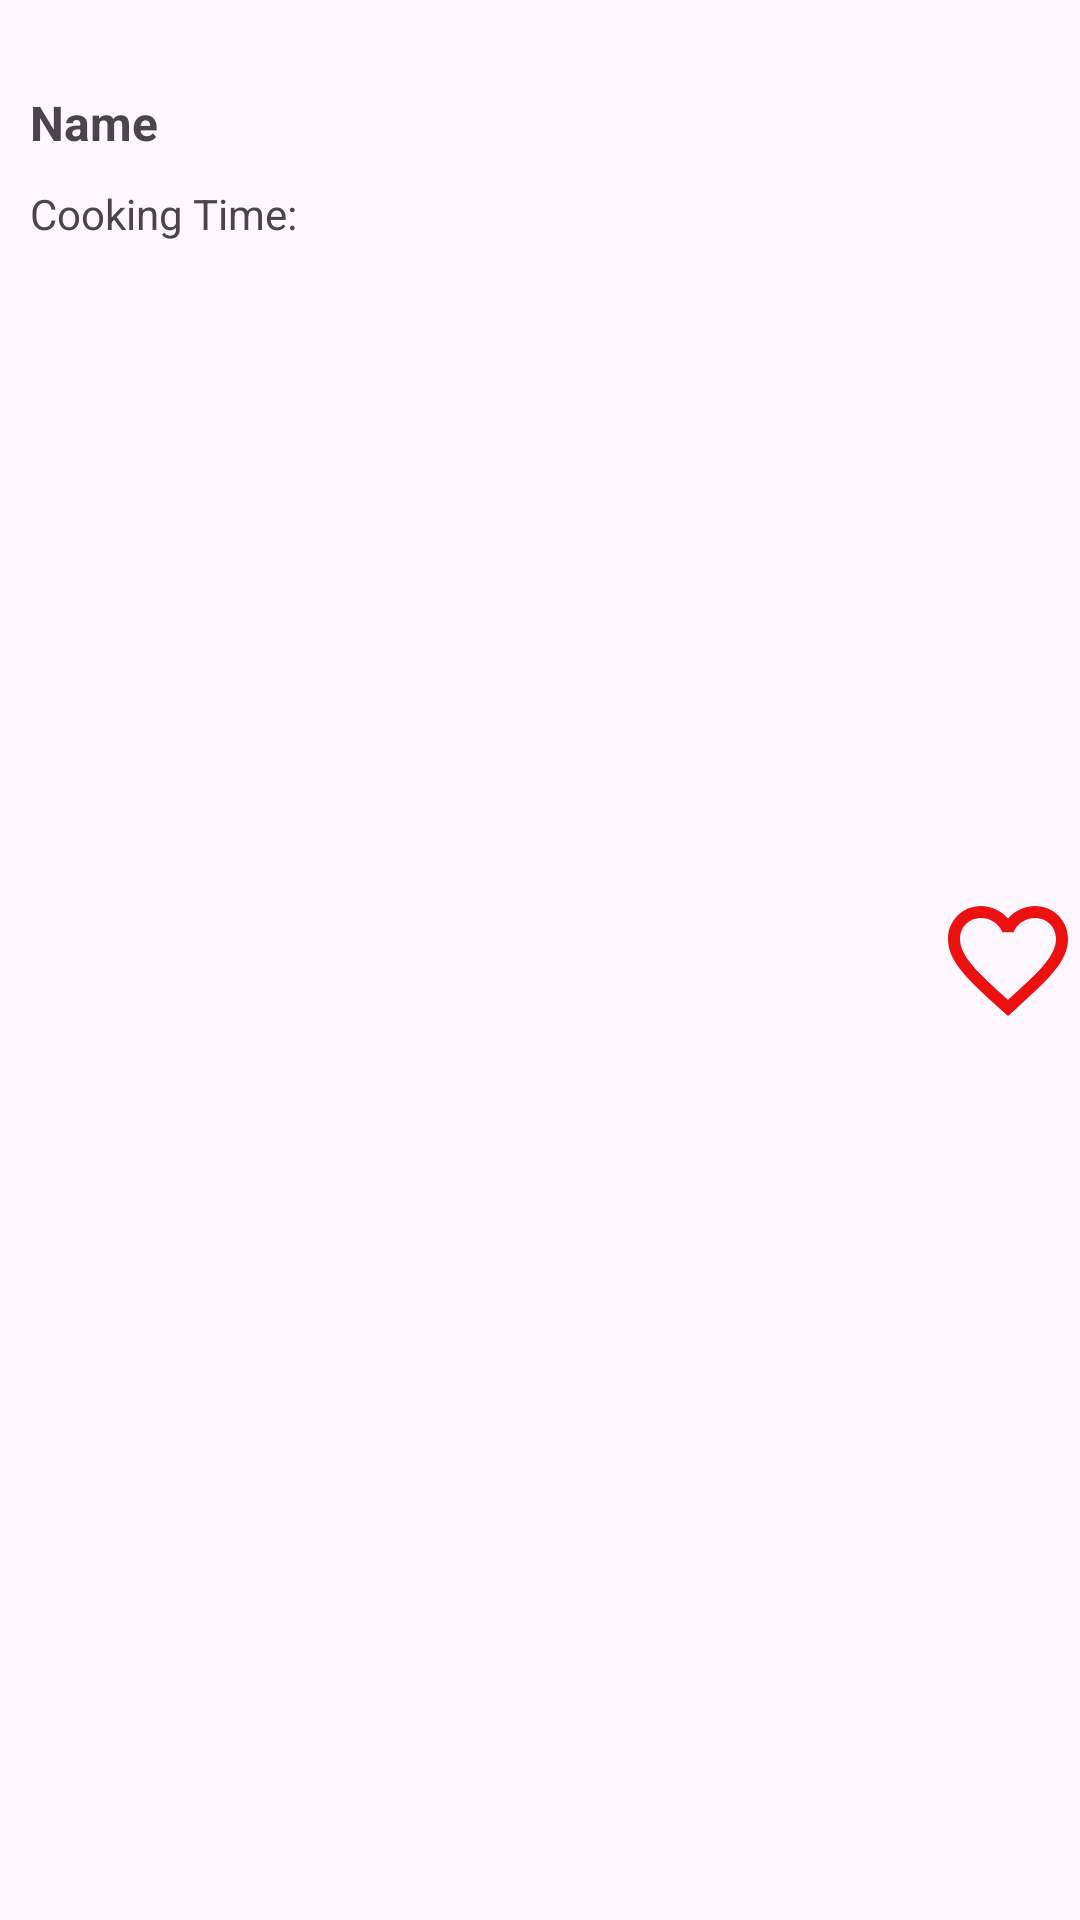

Where to tap for icons on this 1080 × 1920 app screen, as [x,y]:
Favorite Recipe: [1008,961]
